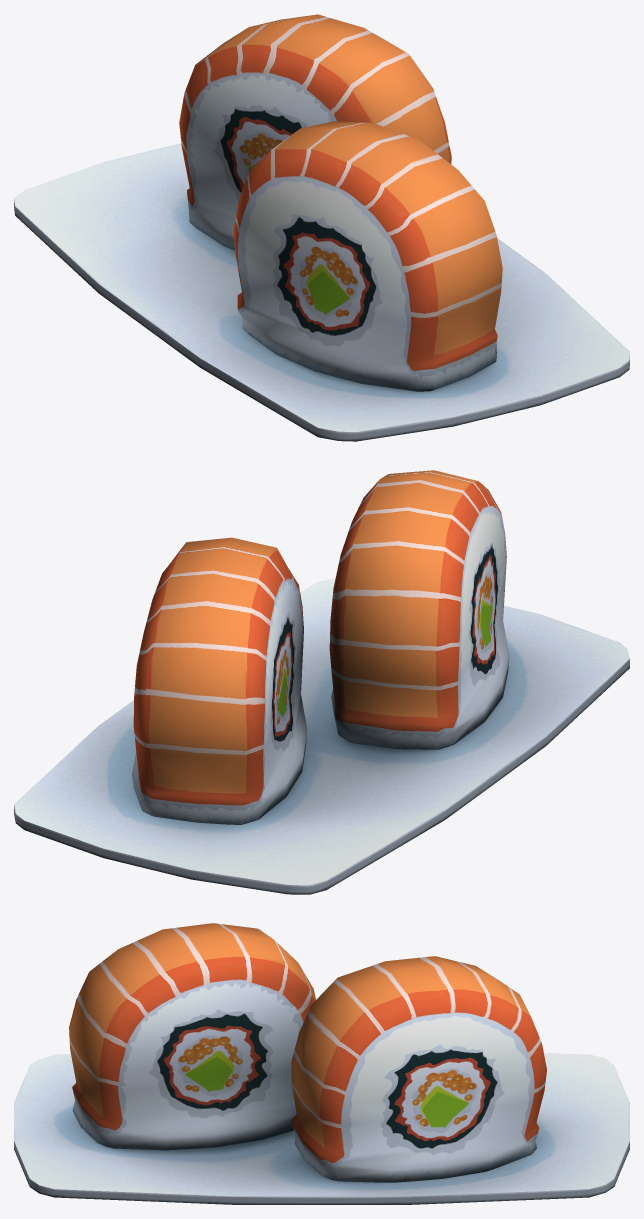
File: Sushi.fbx
3 views of the same model, one above another, from view 1: azimuth 30°, elevation 25°; view 2: azimuth 150°, elevation 25°; view 3: azimuth 270°, elevation 25° (orthographic). The views are drawn at different scales.
Parts seen in each view (by area): view 1: 050; view 2: 050; view 3: 050.
Part boxes in pixels (x1,y1,x2,y2): 050: (14, 14, 629, 441); 050: (14, 470, 629, 894); 050: (14, 923, 629, 1204).
Size of the model in its own units: 40.93 by 26.16 by 71.4.
Materials: 1 (1 with a texture image).
